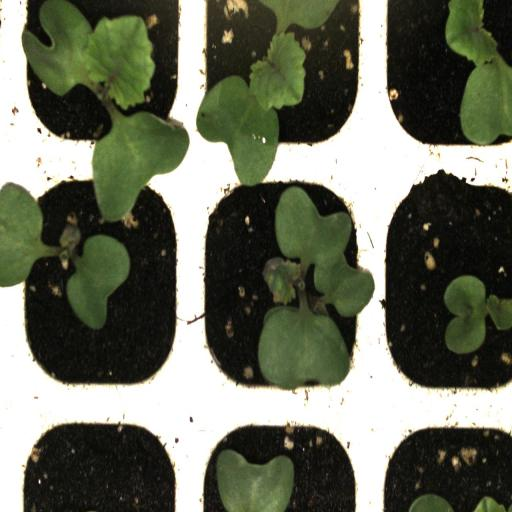Folha: (445, 0, 512, 145), (444, 275, 512, 354), (215, 449, 294, 512)
Germinacao: (192, 168, 374, 406), (14, 168, 191, 406), (192, 0, 375, 165), (8, 0, 190, 165)
